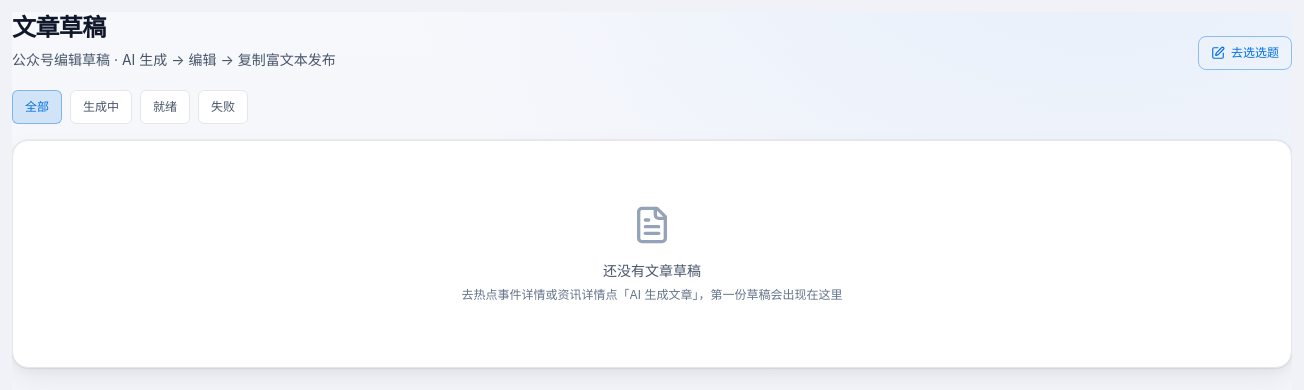
Test: Drafts regression scenarios › describes an empty status filter without claiming all drafts are missing
This screenshot has width=1304, height=390.
Expected: the text "还没有文章草稿" is shown, [603,262,701,279]
Click the button "失败": coordinates (223, 107) [198,90,248,124]
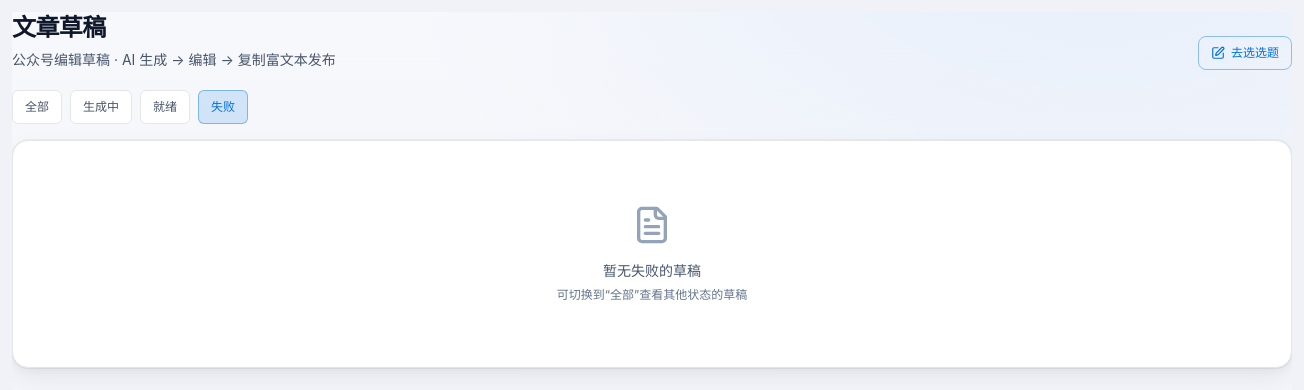
Expected: the text "还没有文章草稿" is gone
Expected: the text "暂无失败的草稿" is shown, [603,262,701,279]
